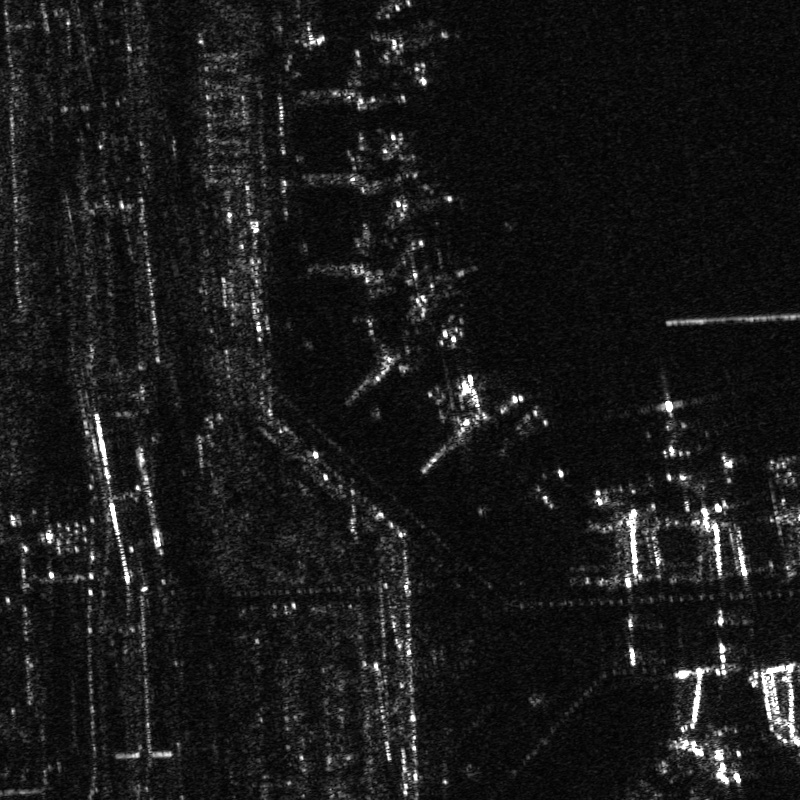A220: (357, 161, 464, 241), (636, 386, 700, 438)
